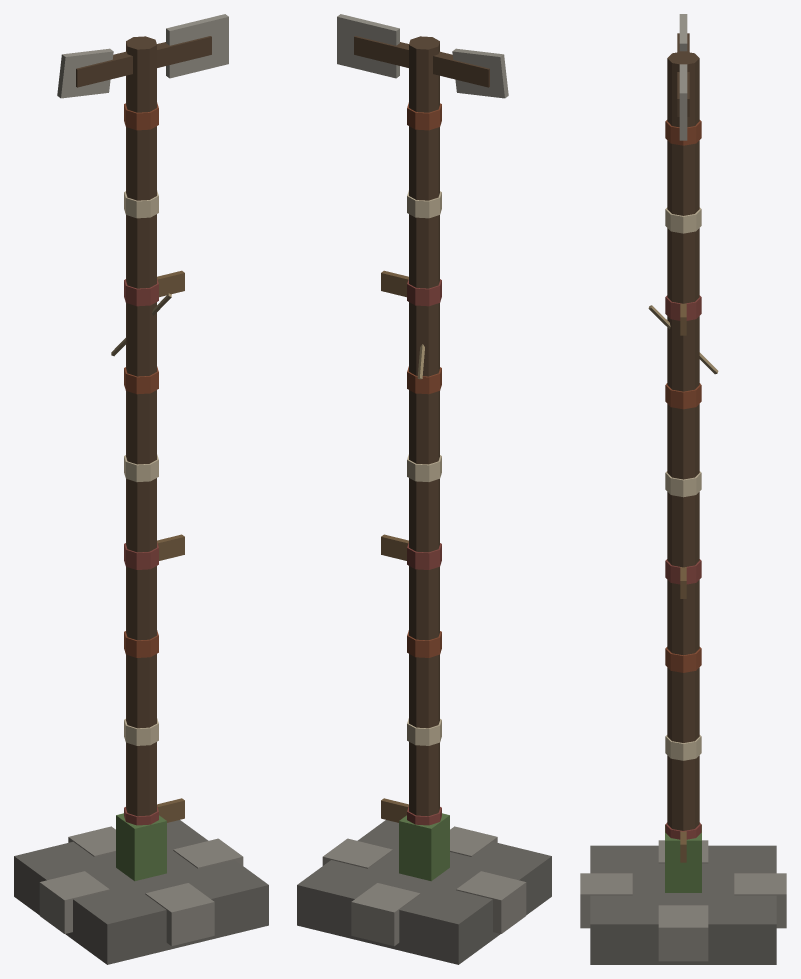
File: V_DepthMarker.glb
3 renders of one model, left to right at view 1: azimuth 30°, elevation 25°; view 2: azimuth 150°, elevation 25°; view 3: azimuth 270°, elevation 25°, orthographic.
Visible parts, largest first — view 1: V_DepthMarker_Foundation, V_DepthMarker_Structure, V_DepthMarker_Fixtures, V_DepthMarker_Props; view 2: V_DepthMarker_Foundation, V_DepthMarker_Structure, V_DepthMarker_Fixtures, V_DepthMarker_Props; view 3: V_DepthMarker_Foundation, V_DepthMarker_Structure, V_DepthMarker_Fixtures, V_DepthMarker_Props.
Part boxes in pixels (<box>): V_DepthMarker_Foundation: <box>14,820,268,964</box>; V_DepthMarker_Structure: <box>126,36,156,816</box>; V_DepthMarker_Fixtures: <box>76,36,211,825</box>; V_DepthMarker_Props: <box>57,14,228,881</box>; V_DepthMarker_Foundation: <box>297,820,551,964</box>; V_DepthMarker_Structure: <box>409,36,439,816</box>; V_DepthMarker_Fixtures: <box>354,36,489,825</box>; V_DepthMarker_Props: <box>337,14,508,881</box>; V_DepthMarker_Foundation: <box>580,840,786,964</box>; V_DepthMarker_Structure: <box>667,51,699,830</box>; V_DepthMarker_Fixtures: <box>665,33,701,862</box>; V_DepthMarker_Props: <box>648,14,718,892</box>.
Bounding box in the file's own units: 1.66 × 7.76 × 1.66.
